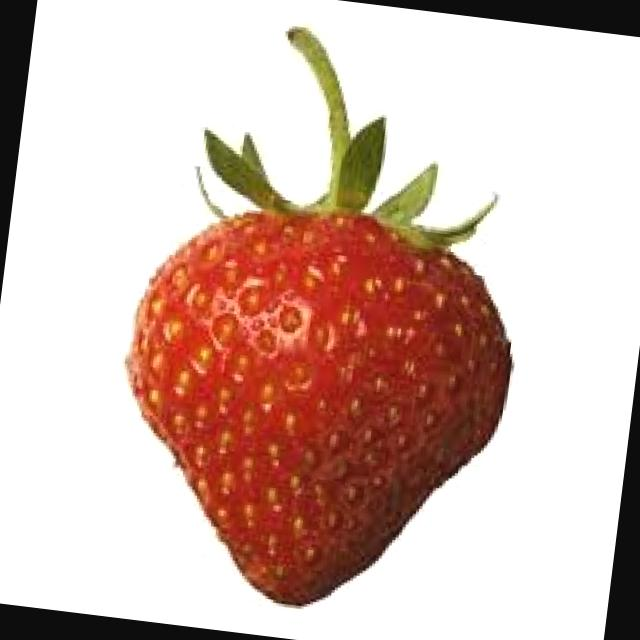tofu: (82, 0, 568, 639)
